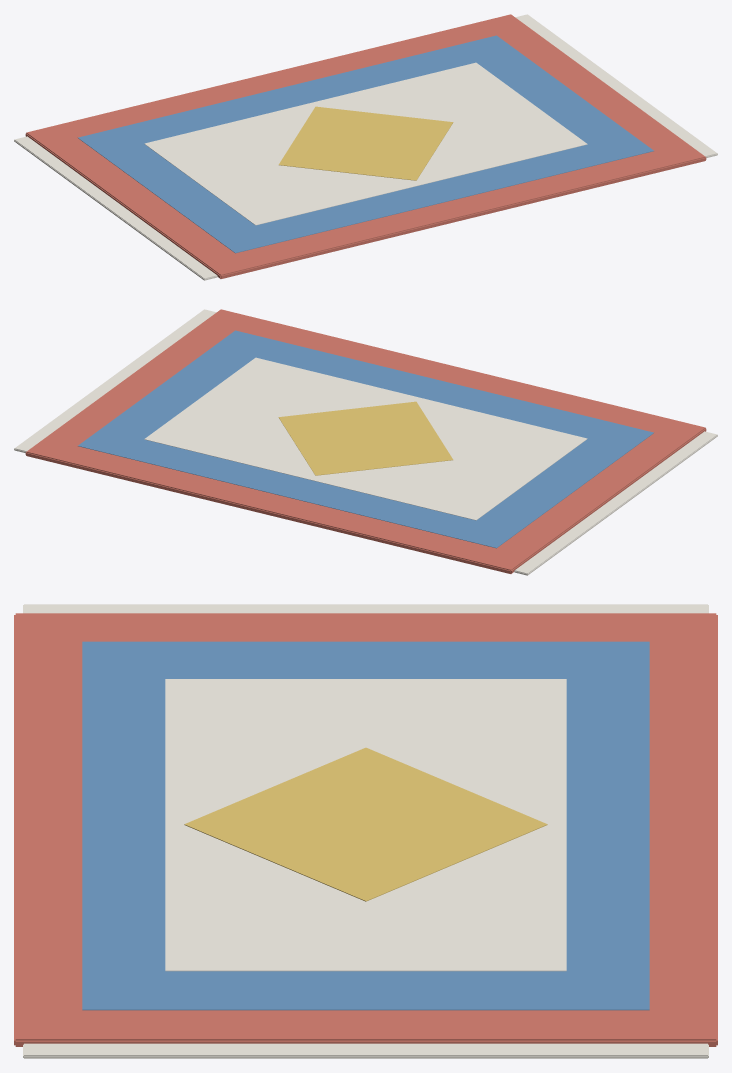
File: Interior_TurkishRugKilim.fbx
3 renders of one model, top to bottom at view 1: azimuth 30°, elevation 25°; view 2: azimuth 150°, elevation 25°; view 3: azimuth 270°, elevation 25°, orthographic. The views are drawn at different scales.
Parts seen in each view (by area): view 1: Interior_TurkishRugKilim; view 2: Interior_TurkishRugKilim; view 3: Interior_TurkishRugKilim.
Part boxes in pixels (x1,y1,x2,y2): Interior_TurkishRugKilim: (14, 14, 717, 280); Interior_TurkishRugKilim: (14, 309, 717, 575); Interior_TurkishRugKilim: (14, 604, 717, 1058).
Bounding box in the file's own units: 2.96 × 0.03 × 1.95.
